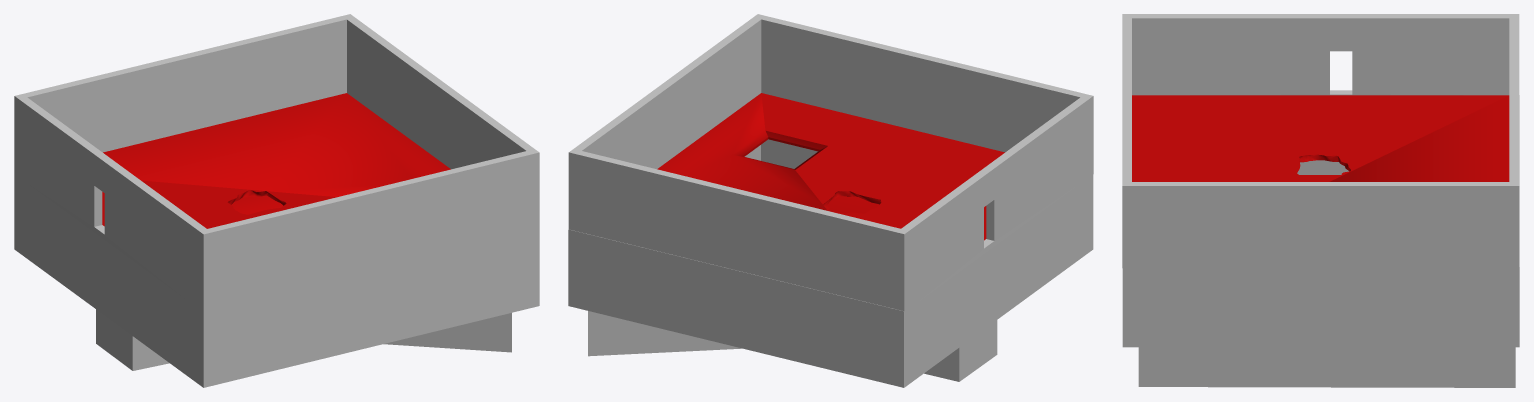
Rendered from FLOOR.fbx.
The picture shows the model from 3 angles, left to right: view 1: azimuth 30°, elevation 25°; view 2: azimuth 150°, elevation 25°; view 3: azimuth 270°, elevation 25°; orthographic projection. The views are drawn at different scales.
Parts seen in each view (by area): view 1: FLOOR_2_0_1, FLOOR_1_0_1, FLOOR_0_0_1; view 2: FLOOR_2_0_1, FLOOR_1_0_1, FLOOR_0_0_1; view 3: FLOOR_2_0_1, FLOOR_1_0_1, FLOOR_0_0_1.
Part boxes in pixels (bbox=[...]): FLOOR_2_0_1: bbox=[14, 14, 539, 312]; FLOOR_1_0_1: bbox=[14, 174, 539, 387]; FLOOR_0_0_1: bbox=[96, 309, 511, 370]; FLOOR_2_0_1: bbox=[568, 14, 1093, 312]; FLOOR_1_0_1: bbox=[568, 139, 1093, 387]; FLOOR_0_0_1: bbox=[588, 311, 997, 381]; FLOOR_2_0_1: bbox=[1122, 14, 1519, 267]; FLOOR_1_0_1: bbox=[1122, 95, 1519, 347]; FLOOR_0_0_1: bbox=[1138, 347, 1515, 387].
Size of the model in its own units: 20.51 by 11.72 by 20.02.
